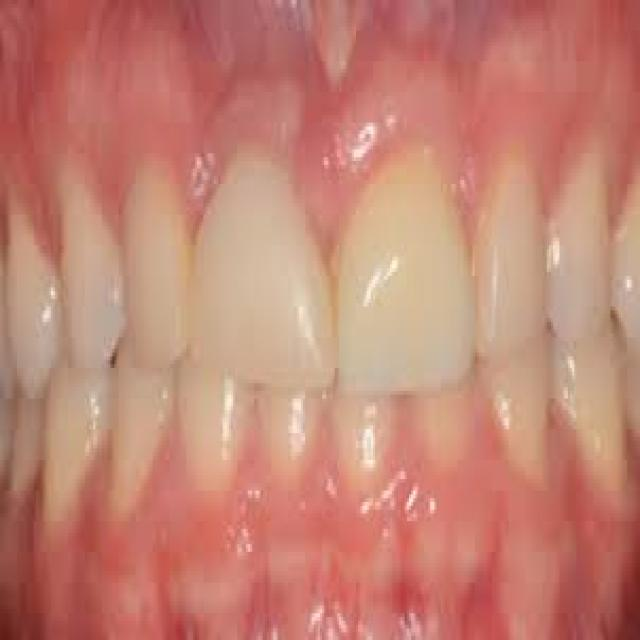tooth: (195, 157, 339, 395), (335, 169, 477, 383), (123, 165, 193, 372), (57, 168, 127, 372), (481, 142, 547, 356), (549, 122, 610, 352), (553, 330, 634, 502), (172, 341, 256, 494), (40, 348, 110, 514), (114, 348, 174, 514), (483, 341, 549, 479), (259, 368, 324, 483), (335, 356, 390, 479), (418, 364, 474, 464)
